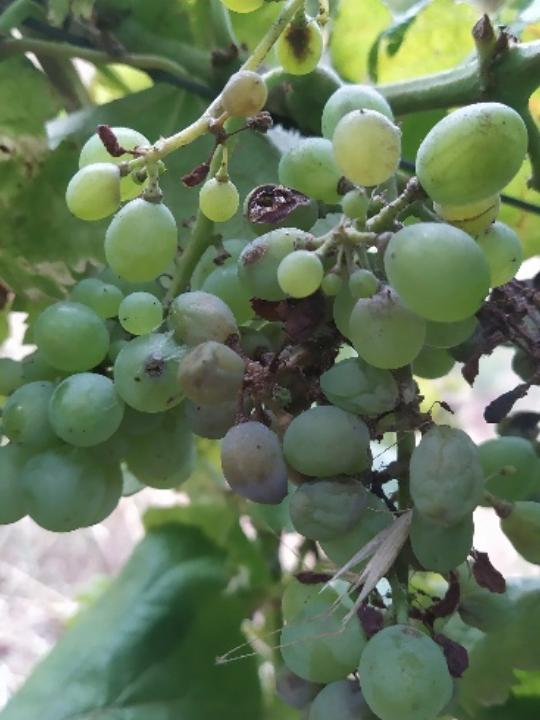grape: (164, 78, 540, 720)
